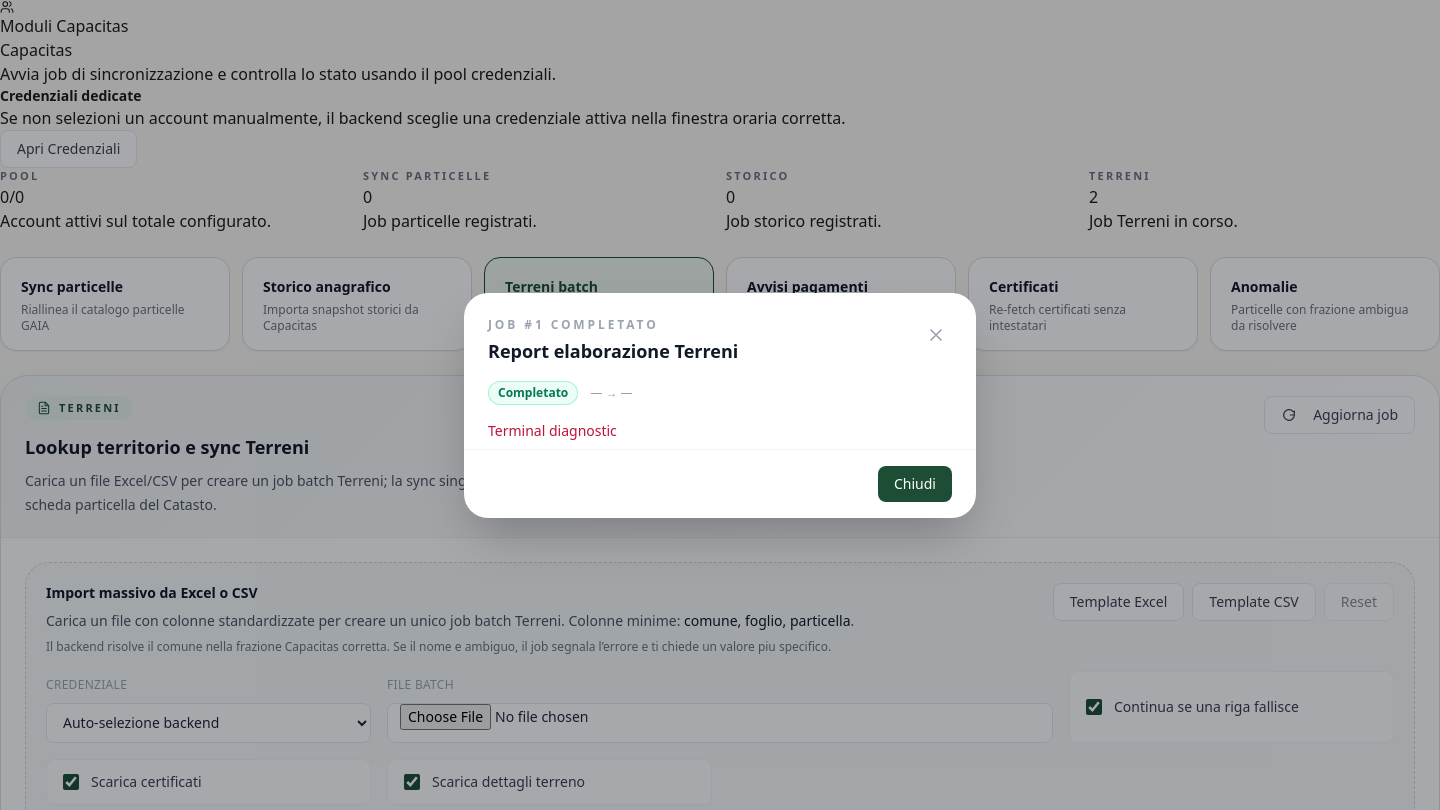
Scenario: Capacitas Terreni monitor and actions characterization › polling pending → succeeded opens completion once while another job remains active
Check: the heading "Report elaborazione Terreni" is shown, box [488, 336, 738, 364]
Check: the text "Job #1 completato" is shown, box [488, 316, 659, 332]
Step 1. Click the button "Chiudi" → click(915, 484), box [878, 466, 952, 502]
Wait 15000 ms
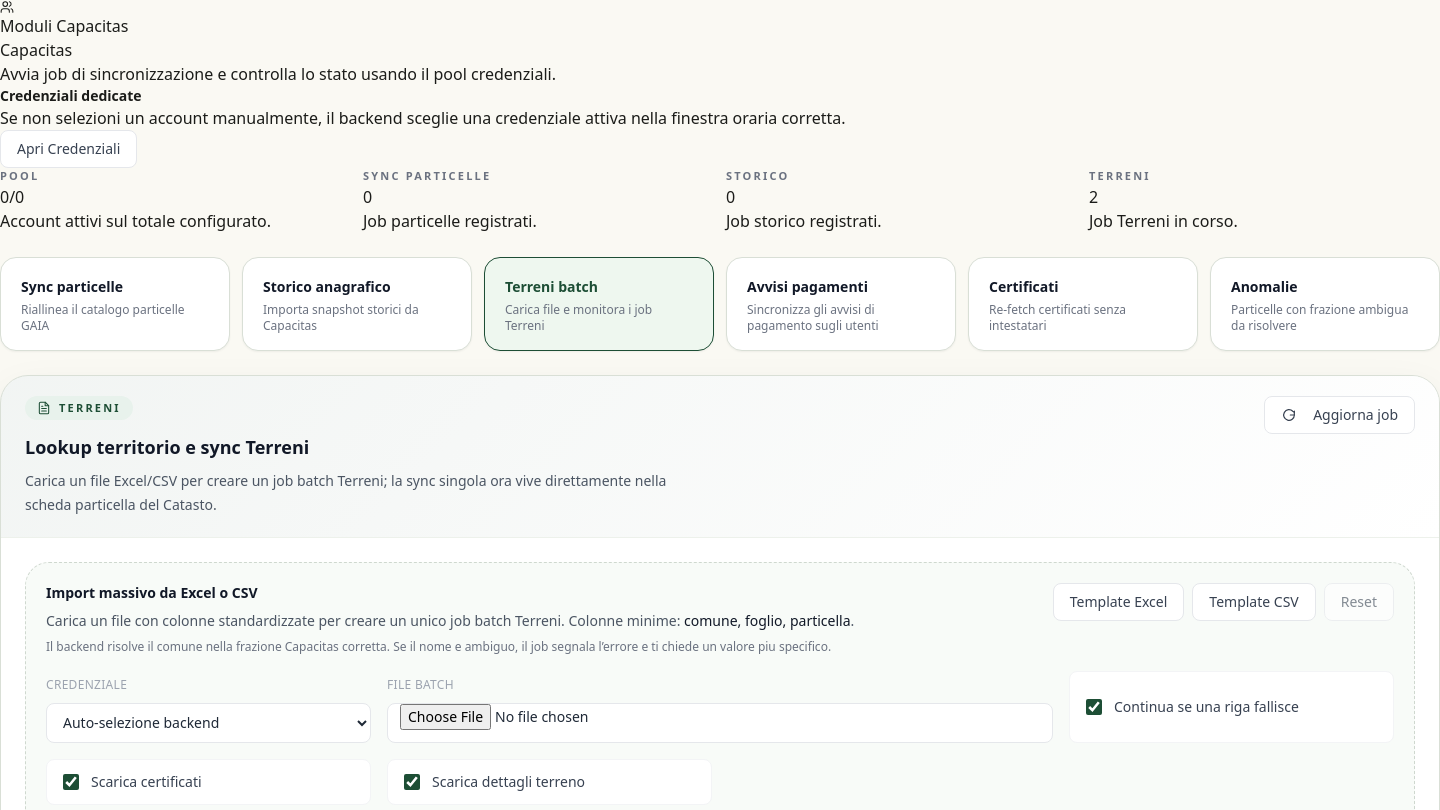
Check: the heading "Report elaborazione Terreni" is gone
